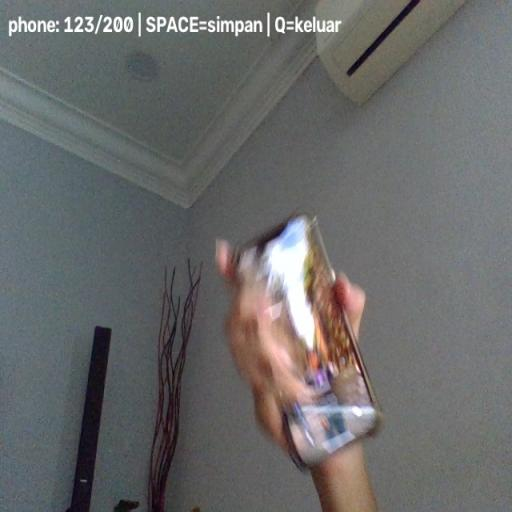Phone: (232, 210, 386, 473)
